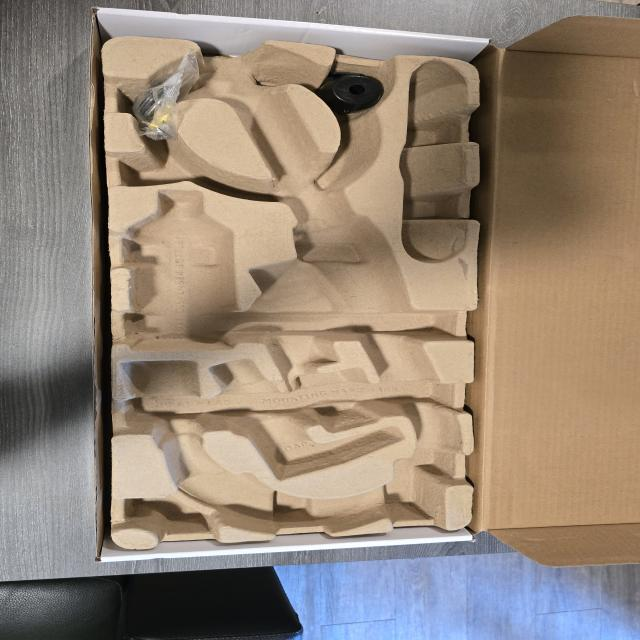1m: (128, 39, 465, 533)
2m: (211, 361, 398, 479)
3m: (123, 191, 234, 349)
4m: (401, 59, 465, 263)
5: (321, 73, 387, 114)
6: (118, 47, 210, 135)
7m: (121, 143, 219, 186)
